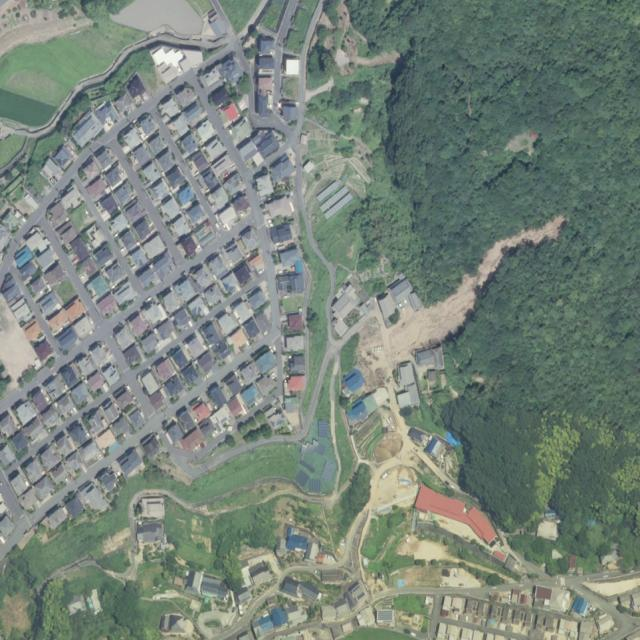landslide: (387, 215, 567, 363)
